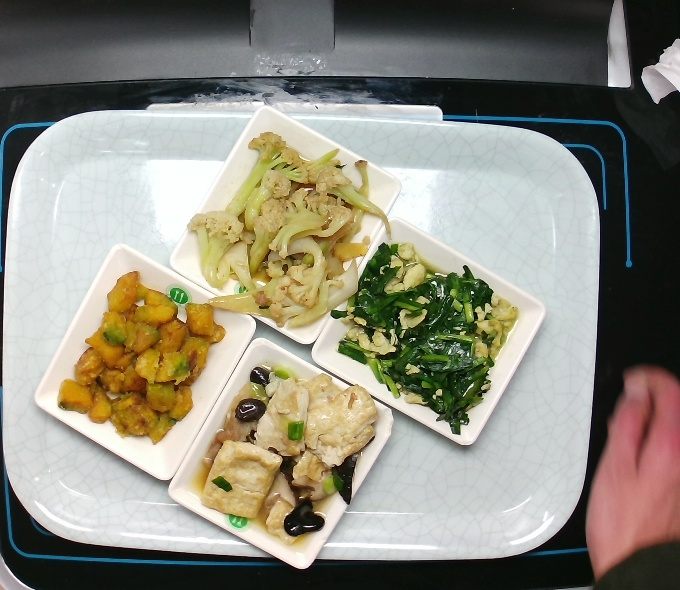wcq-DanHuangNanGua: (54, 269, 227, 446)
wcq-JiaChangDouFu: (193, 357, 380, 538)
wcq-JiuCaiJiDan: (326, 238, 520, 437)
wcq-QiuCai: (185, 129, 378, 330)
